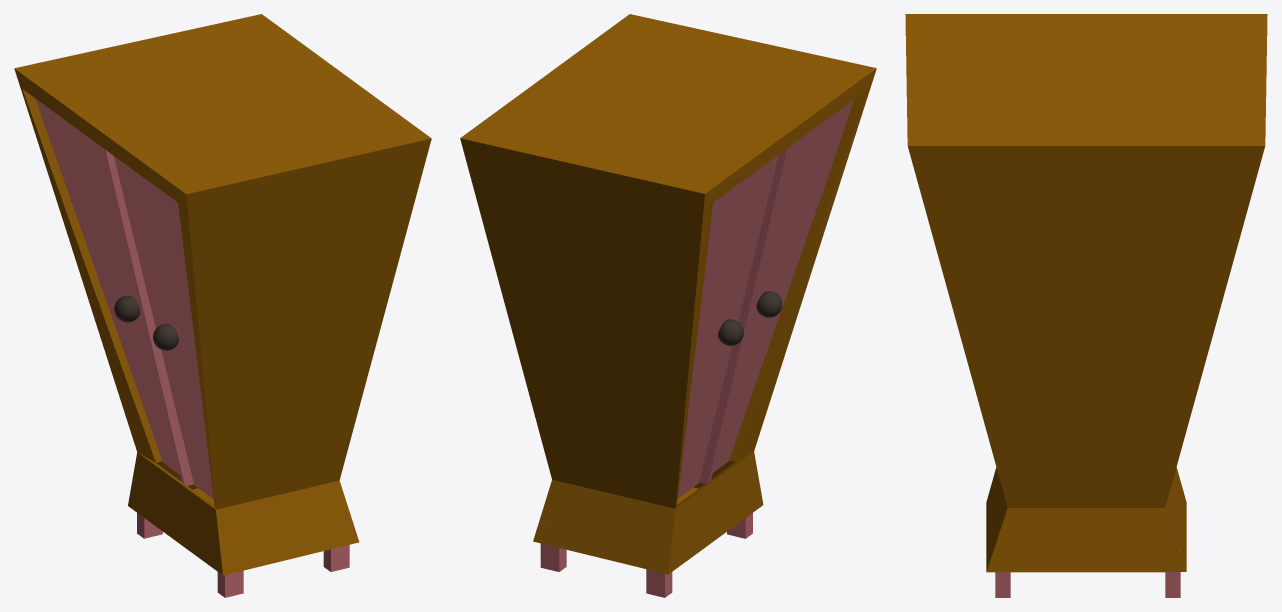
File: armoire.fbx
3 renders of one model, left to right at view 1: azimuth 30°, elevation 25°; view 2: azimuth 150°, elevation 25°; view 3: azimuth 270°, elevation 25°, orthographic. The views are drawn at different scales.
Visible parts, largest first — view 1: Box001, Box004, Box002, Box006, Box007, Sphere001, Sphere002; view 2: Box001, Box004, Box002, Box008, Box005, Sphere001, Sphere002; view 3: Box001.
Boxes of the visible parts, x1,y1,x2,y2 form: Box001: [14, 14, 431, 575]; Box004: [35, 98, 213, 499]; Box002: [102, 148, 193, 485]; Box006: [217, 570, 243, 597]; Box007: [323, 545, 349, 571]; Sphere001: [114, 295, 140, 322]; Sphere002: [153, 324, 178, 350]; Box001: [460, 14, 876, 574]; Box004: [677, 100, 853, 498]; Box002: [699, 146, 789, 483]; Box008: [540, 523, 566, 571]; Box005: [646, 569, 672, 597]; Sphere001: [718, 319, 743, 345]; Sphere002: [756, 291, 782, 317]; Box001: [905, 14, 1267, 572].
Bounding box in the file's own units: 93.74 × 165 × 113.
